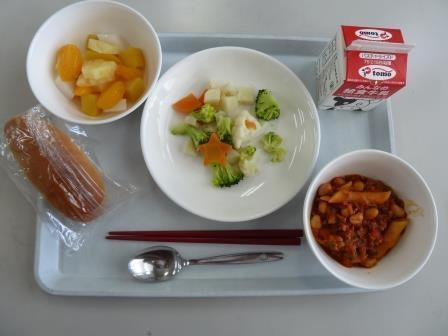Bread: (8, 115, 118, 229)
Milk: (311, 20, 414, 122)
Salad: (164, 79, 297, 196)
cooked food meat with vegetables: (305, 150, 428, 282)
salad with sauce: (35, 15, 148, 115)
